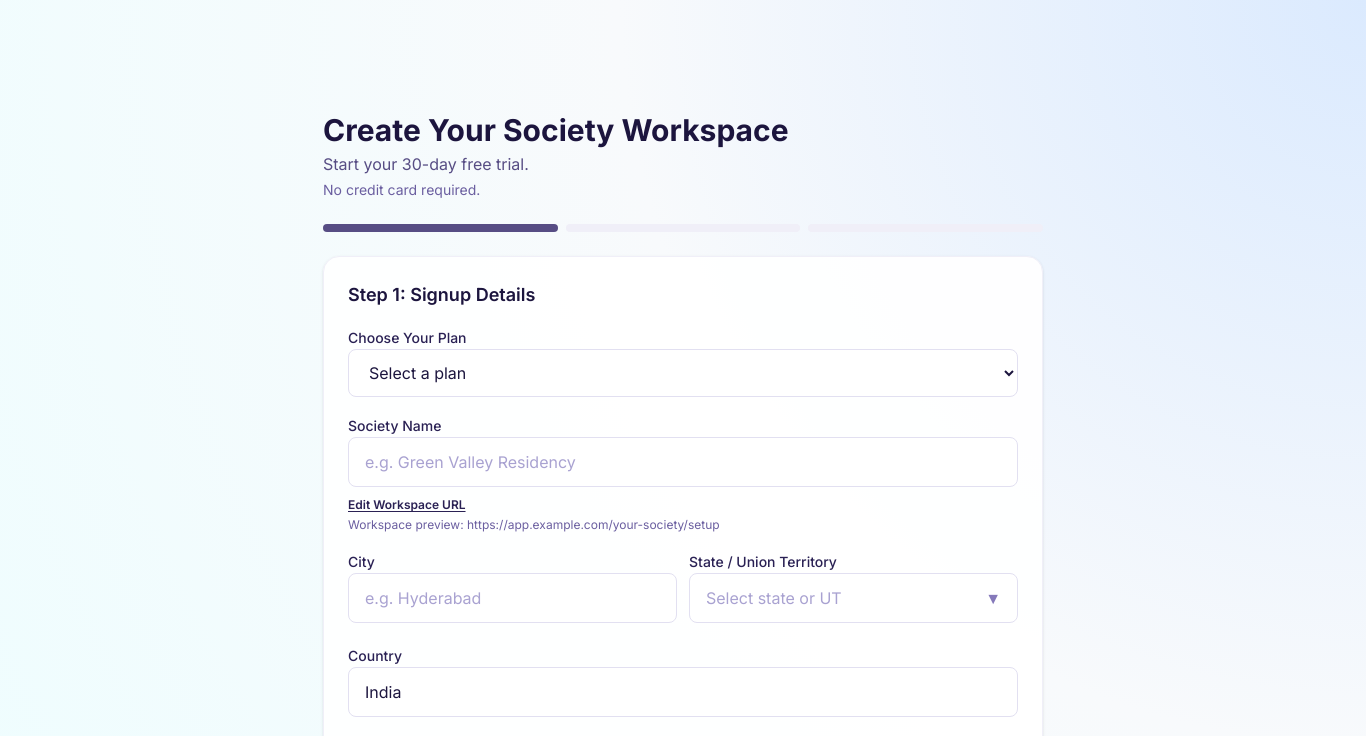
SocietySignupPage › updates estimated monthly cost when unit count changes
The image size is (1366, 736).
Select "Starter" in the dropdown labelled "Choose Your Plan": (683, 373) [348,349,1018,397]
(page scrolled)
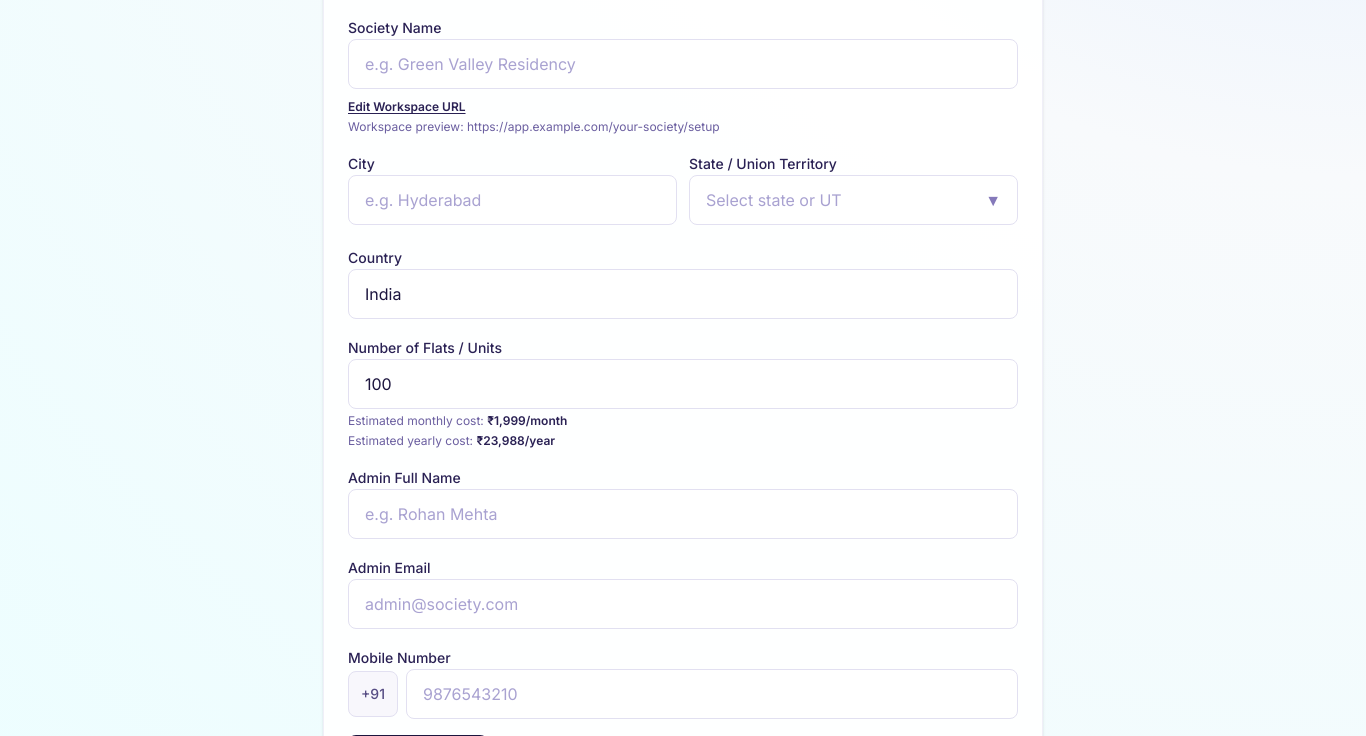
Replace the text in the number field labelled "Number of Flats / Units" with "250": (683, 384) [348,359,1018,409]
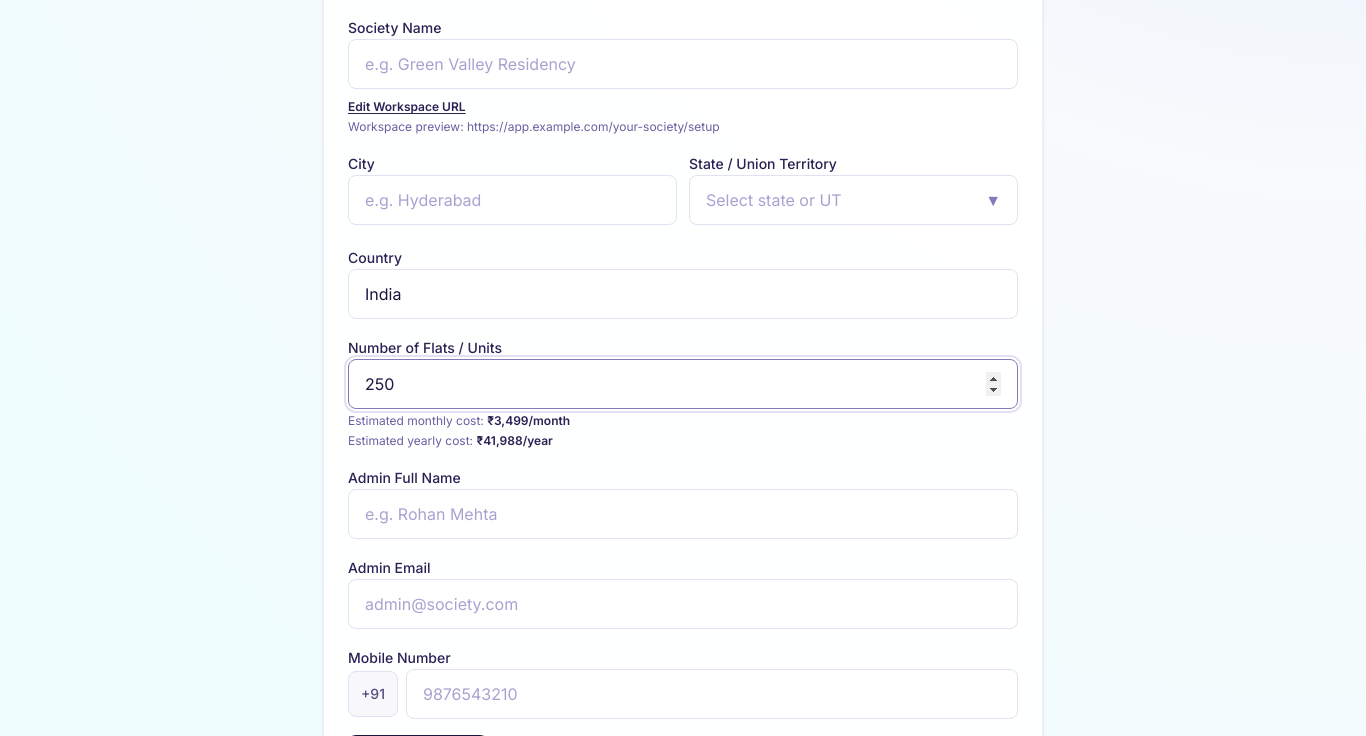
Check: the text "Estimated monthly cost: ₹3,499/month" is shown, box [348,413,570,428]
Check: the text "₹41,988/year" is shown, box [476,433,553,448]
